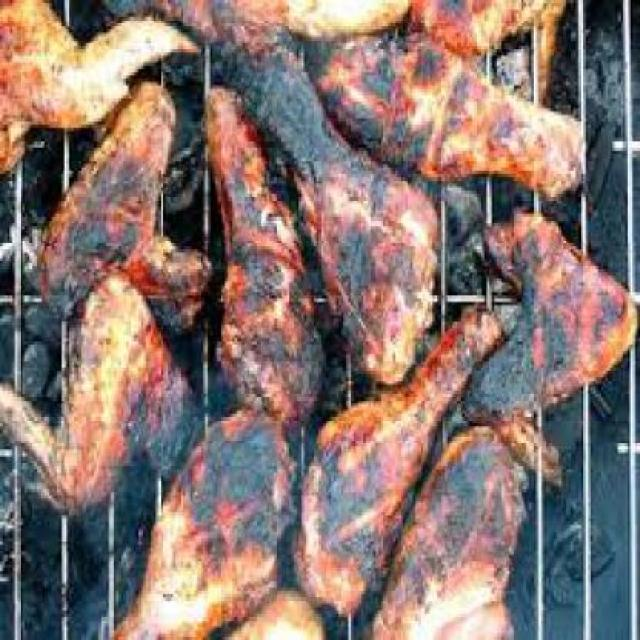Frango: (9, 6, 636, 637)
